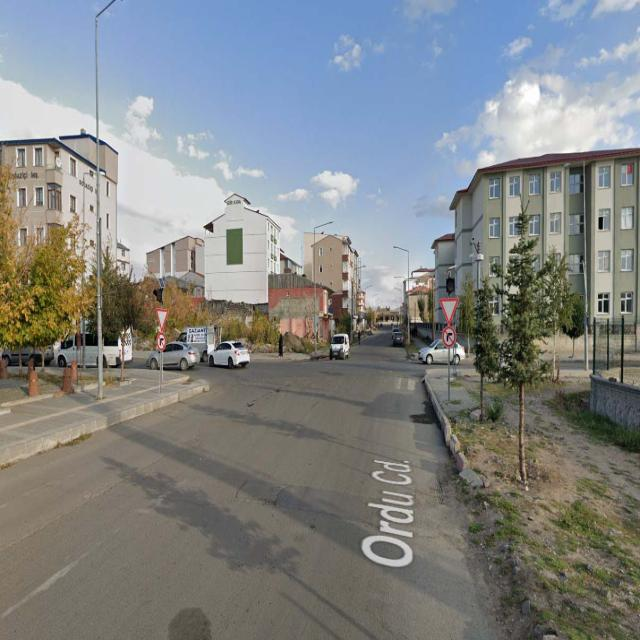sagadonulmez: (443, 327, 456, 347), (157, 333, 166, 349)
